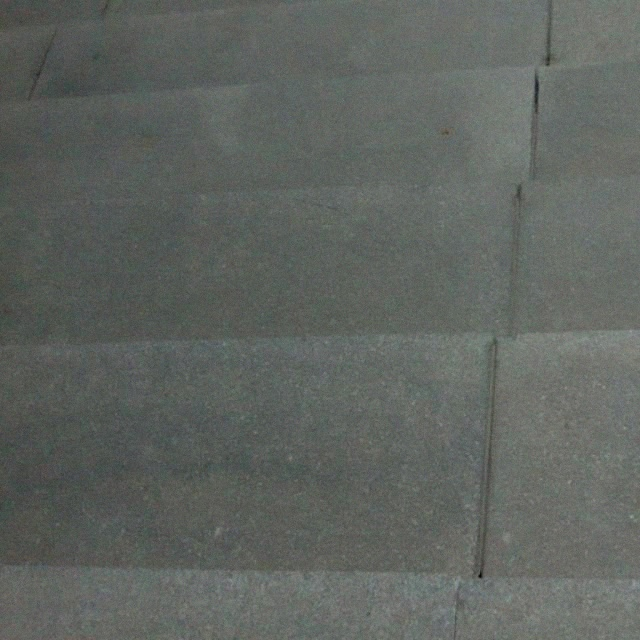stair: (1, 12, 640, 620)
